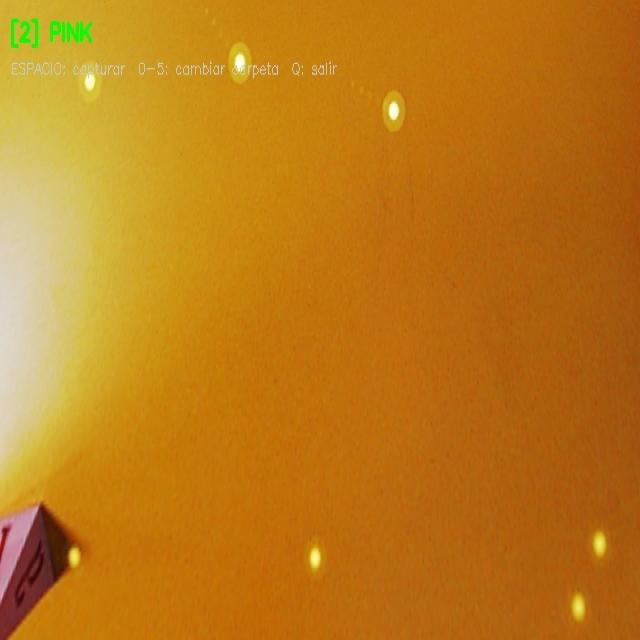pink: (1, 499, 58, 640)
